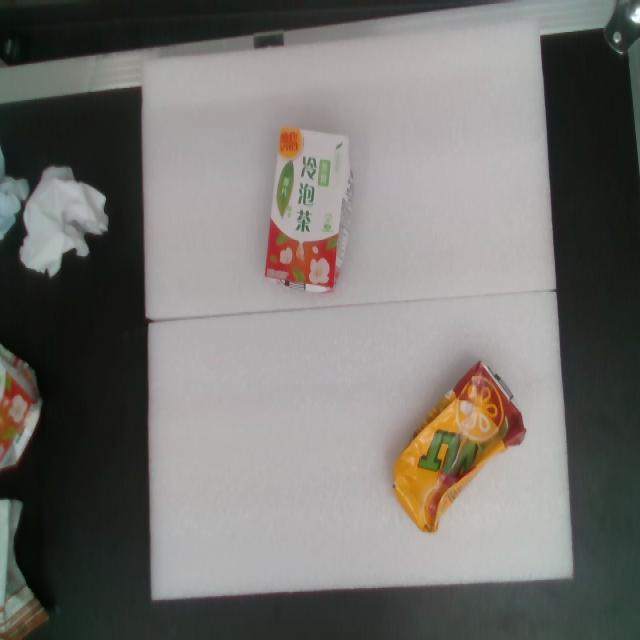juicebox: (344, 336, 565, 562), (257, 113, 365, 306)
